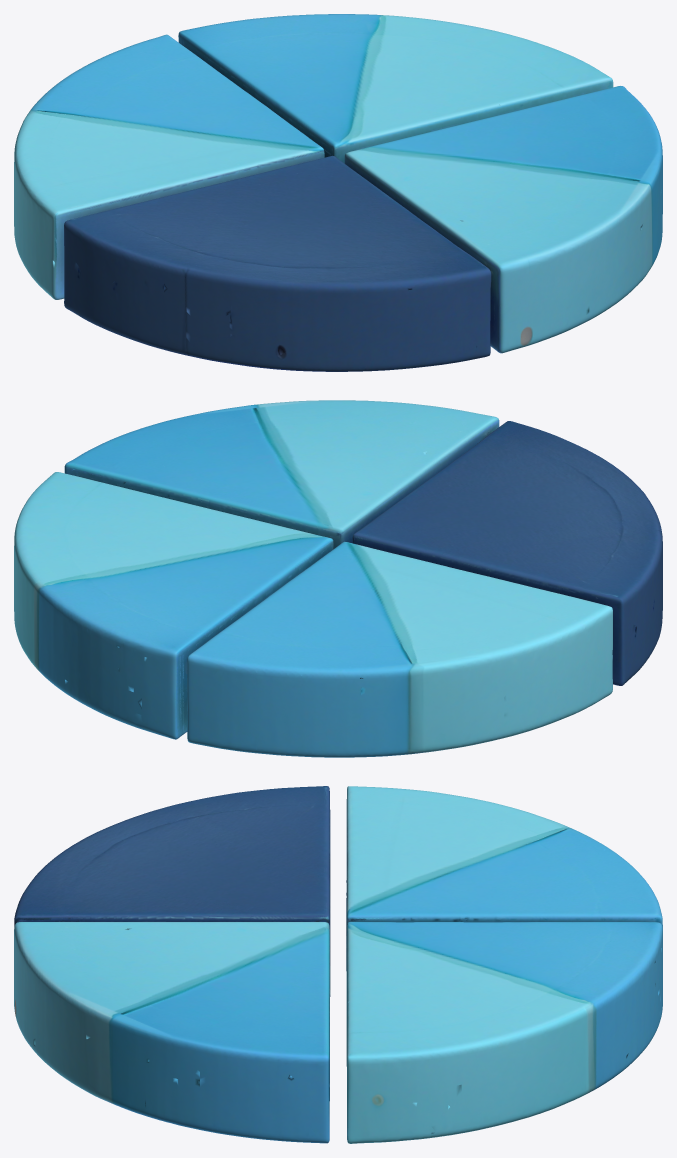
File: pie-chart-3d.glb
3 renders of one model, top to bottom at view 1: azimuth 30°, elevation 25°; view 2: azimuth 150°, elevation 25°; view 3: azimuth 270°, elevation 25°, orthographic.
Size of the model in its own units: 2 by 0.3052 by 2.
Materials: 1 (1 with a texture image).
